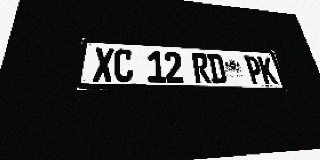1: (147, 50, 166, 83)
2: (164, 51, 184, 83)
C: (114, 49, 133, 82)
D: (207, 54, 227, 84)
K: (257, 56, 278, 84)
P: (244, 56, 265, 84)
R: (191, 53, 212, 83)
X: (92, 47, 114, 82)
